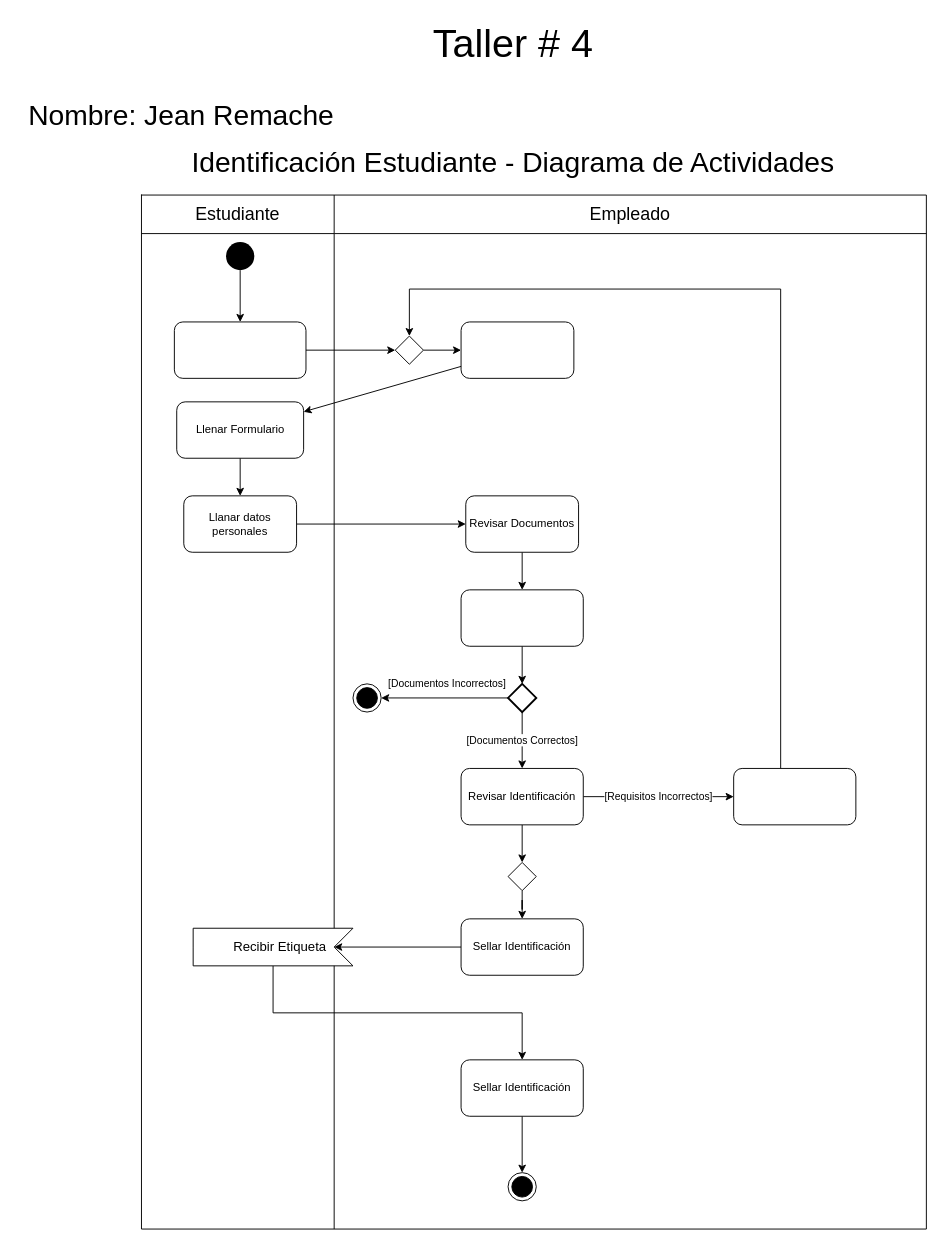
This 943x1246 diagram has some shape labels left out. The centre of each missing label's shape, as x and y in pixels:
"Confirmar Documentos" belongs at point (521, 617).
"Destruye Tarjeta" belongs at point (794, 796).
"Entregar Formulario" belongs at point (517, 349).
"Solicitar Identificación" belongs at point (239, 349).
